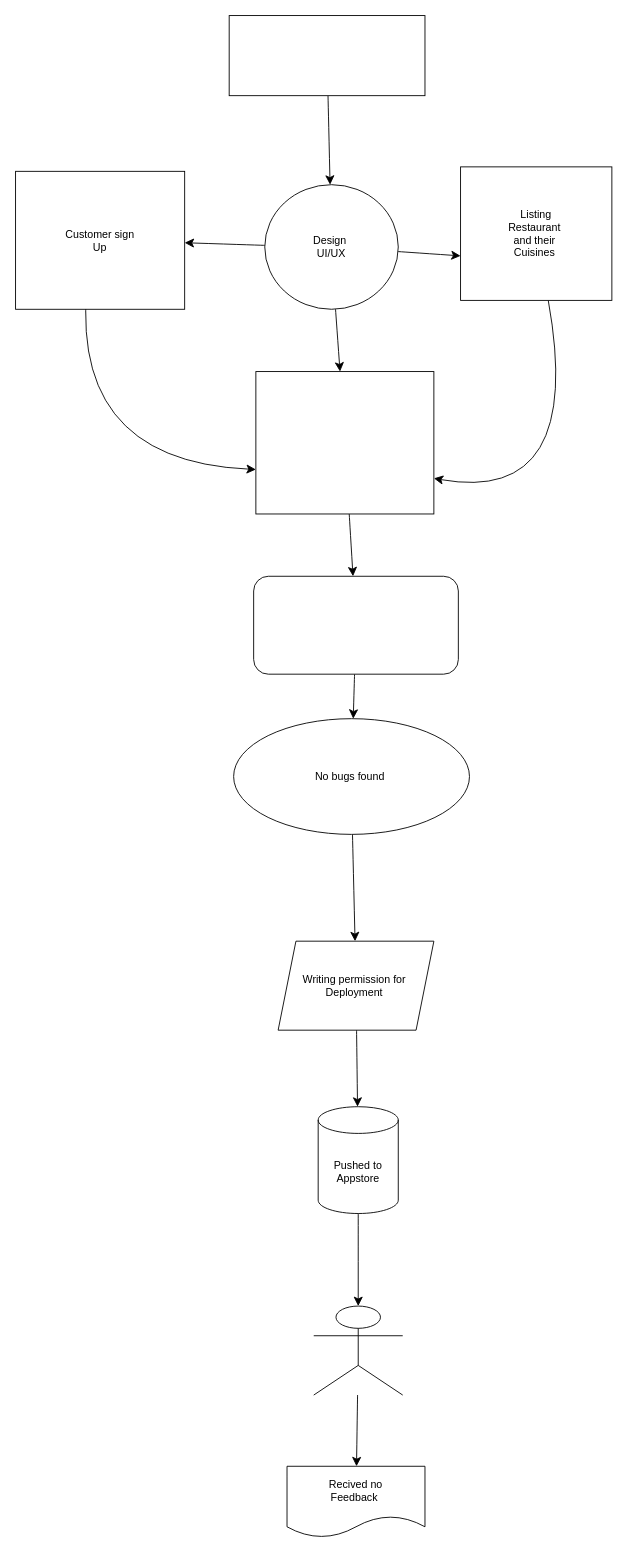
The diagram is 627 pixels wide and 1553 high, and some of its shapes have lost their labels. Each missing label, with the centre of its shape:
Checkout Page & RTS: (x=344, y=442)
Compiling to APK: (x=355, y=624)
Customer using application: (x=358, y=1350)
ZK Eats: (x=326, y=55)
